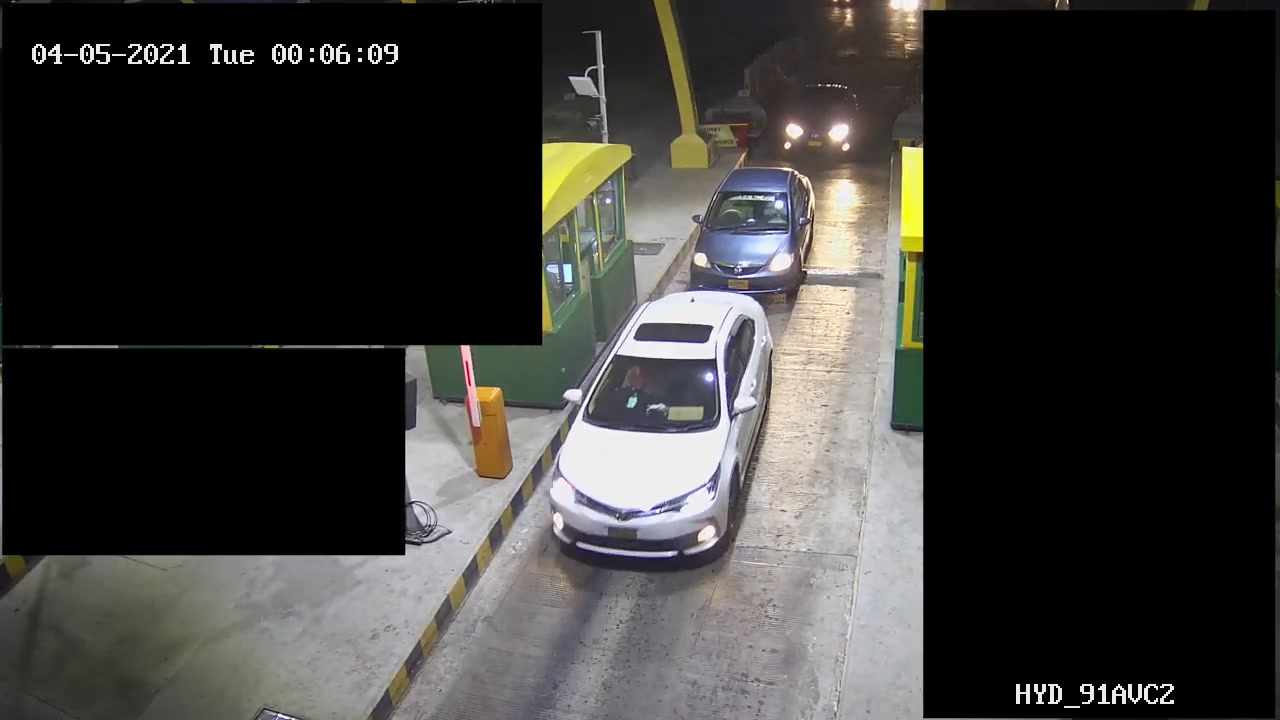F1: (543, 290, 784, 589), (675, 165, 836, 296)
